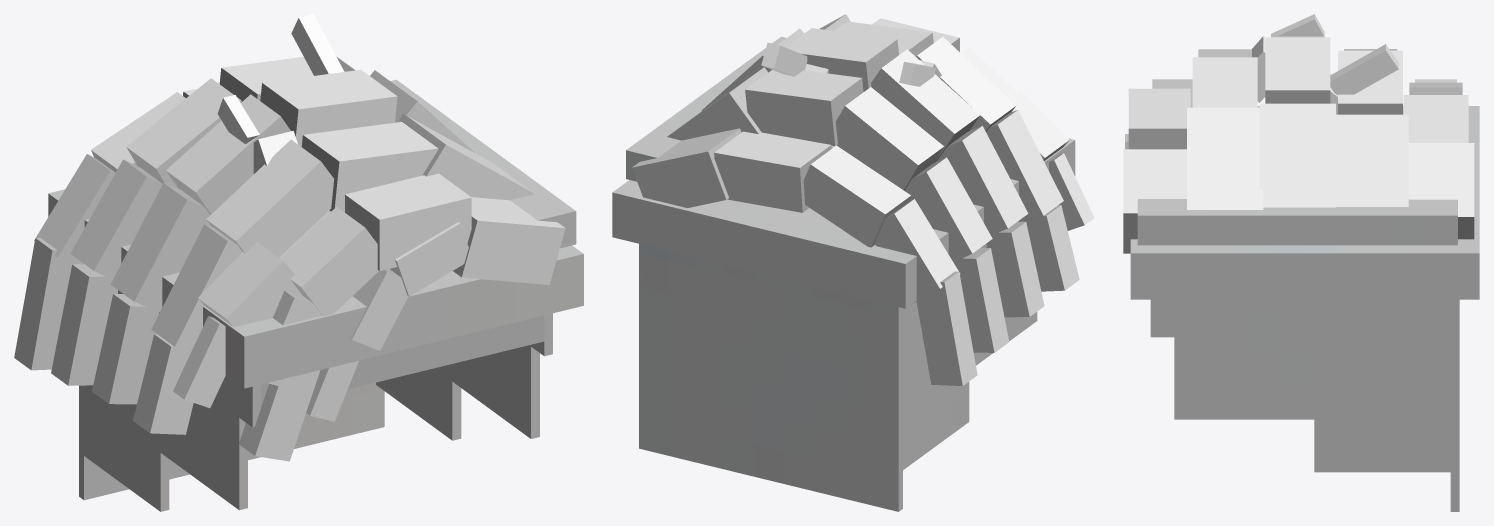
Rendered from undercut-textured.gltf.
3 renders of one model, left to right at view 1: azimuth 30°, elevation 25°; view 2: azimuth 150°, elevation 25°; view 3: azimuth 270°, elevation 25°, orthographic. The views are drawn at different scales.
Parts seen in each view (by area): view 1: 윗머리, 밀어낸 옆 L (×2), 밀어낸 옆 R (×2), 넘긴 줄기 2 3, 앞 줄기 1 2, 앞 줄기 1 1, 넘긴 줄기 2 2, 넘긴 줄기 3 2, 앞 줄기 1 3, 넘긴 줄기 3 4, 넘긴 줄기 3 3, cube (+25 smaller); view 2: 밀어낸 뒤, 윗머리, 밀어낸 옆 L (×2), 넘긴 줄기 5 2, 넘긴 줄기 4 2, 넘긴 줄기 4 3, 넘긴 줄기 5 3, 넘긴 줄기 5 1, 넘긴 줄기 5 5, 넘긴 줄기 3 3, 넘긴 줄기 3 4, 넘긴 줄기 4 4 (+18 smaller); view 3: 밀어낸 옆 R (×2), 윗머리, 오른쪽 덮개, 넘긴 줄기 3 1, 넘긴 줄기 2 1, 넘긴 줄기 4 1, 넘긴 줄기 5 1, 넘긴 줄기 3 2, 앞 줄기 1 1, 앞 줄기 1 2, 넘긴 줄기 2 2, 넘긴 줄기 5 2 (+9 smaller).
Boxes of the visible parts, <box> form: 윗머리: <box>48,189,583,388</box>; 밀어낸 옆 L (×2): <box>79,375,247,511</box>; 밀어낸 옆 R (×2): <box>376,345,539,440</box>; 넘긴 줄기 2 3: <box>206,139,333,257</box>; 앞 줄기 1 2: <box>345,173,471,270</box>; 앞 줄기 1 1: <box>453,197,565,284</box>; 넘긴 줄기 2 2: <box>301,122,438,212</box>; 넘긴 줄기 3 2: <box>260,69,397,146</box>; 앞 줄기 1 3: <box>281,206,378,316</box>; 넘긴 줄기 3 4: <box>110,183,211,312</box>; 넘긴 줄기 3 3: <box>166,94,290,214</box>; cube: <box>248,315,544,411</box>; 밀어낸 뒤: <box>639,244,902,511</box>; 윗머리: <box>612,138,1075,308</box>; 밀어낸 옆 L (×2): <box>891,302,1037,473</box>; 넘긴 줄기 5 2: <box>714,131,831,212</box>; 넘긴 줄기 4 2: <box>745,70,863,145</box>; 넘긴 줄기 4 3: <box>835,87,943,190</box>; 넘긴 줄기 5 3: <box>803,145,910,247</box>; 넘긴 줄기 5 1: <box>632,128,741,207</box>; 넘긴 줄기 5 5: <box>916,271,977,385</box>; 넘긴 줄기 3 3: <box>871,49,980,162</box>; 넘긴 줄기 3 4: <box>937,126,1028,235</box>; 넘긴 줄기 4 4: <box>905,157,992,262</box>; 밀어낸 옆 R (×2): <box>1174,299,1459,472</box>; 윗머리: <box>1130,106,1479,299</box>; 오른쪽 덮개: <box>1137,199,1457,245</box>; 넘긴 줄기 3 1: <box>1259,103,1335,207</box>; 넘긴 줄기 2 1: <box>1187,107,1263,209</box>; 넘긴 줄기 4 1: <box>1336,114,1408,206</box>; 넘긴 줄기 5 1: <box>1408,143,1474,239</box>; 넘긴 줄기 3 2: <box>1265,37,1330,103</box>; 앞 줄기 1 1: <box>1123,149,1186,253</box>; 앞 줄기 1 2: <box>1128,88,1190,149</box>; 넘긴 줄기 2 2: <box>1192,57,1257,107</box>; 넘긴 줄기 5 2: <box>1403,95,1468,142</box>.
Size of the model in its own units: 0.6885 by 0.7867 by 0.6125.
4 materials, 4 textured.
